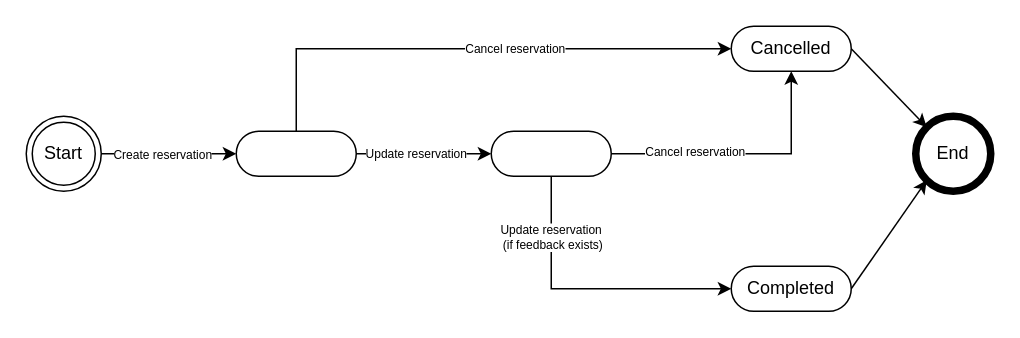
The diagram is 1020 pixels wide and 338 high, and some of its shapes have lost their labels. The centre of each missing label's shape, as x and y in pixels:
In progress: point (550, 153)
Reserved: point (295, 153)
